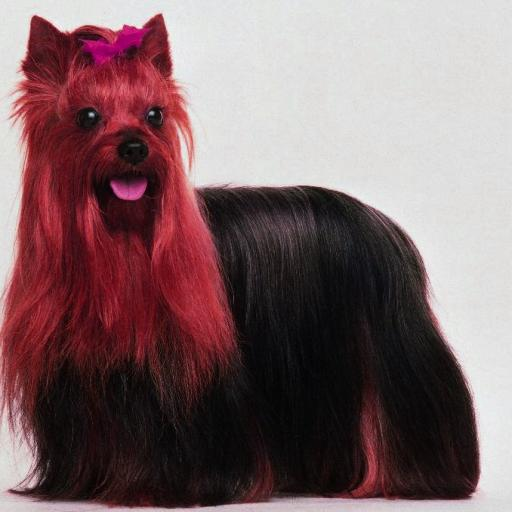dog_face: (17, 9, 185, 210)
